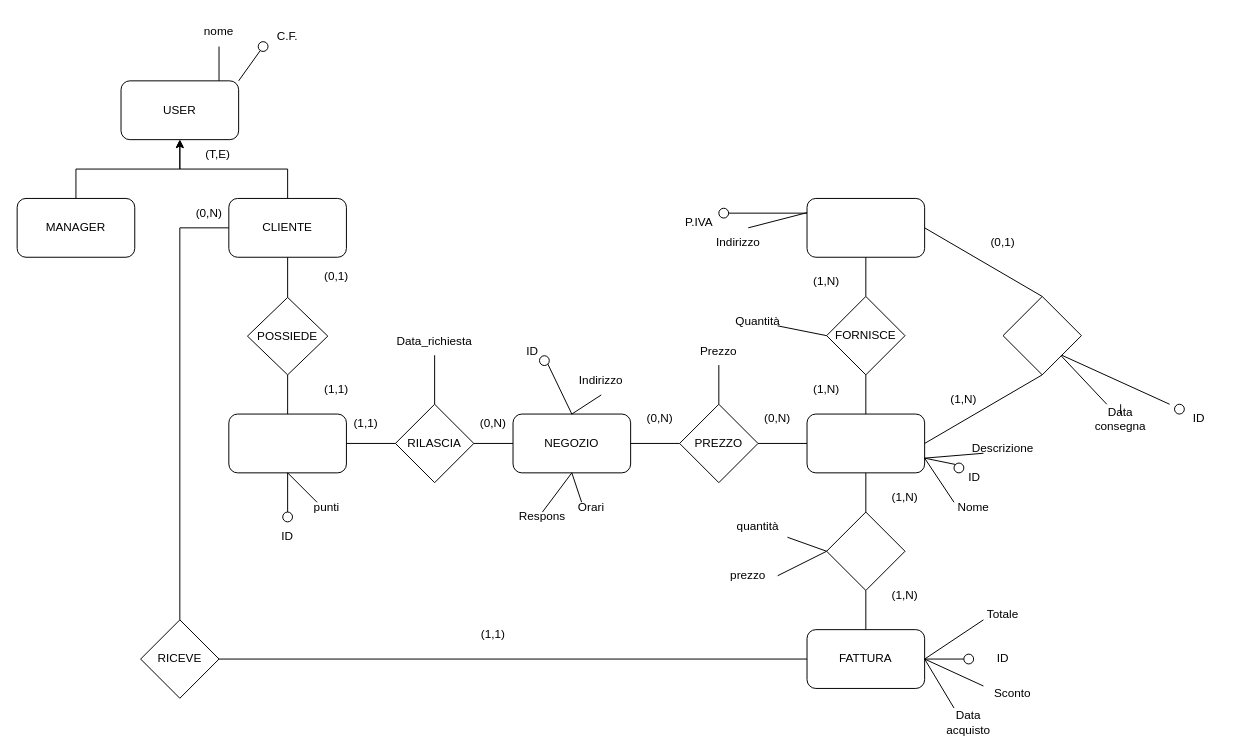
The diagram is 1246 pixels wide and 754 high, and some of its shapes have lost their labels. The centre of each missing label's shape, as x and y in pixels:
"FORNITORI" goes at pixel 865 227.
"ORDINE" goes at pixel 1041 335.
"PRODOTTO" goes at pixel 865 443.
"RIGA FATTURA" goes at pixel 865 550.
"TESSERA_FEDELTA'" goes at pixel 287 443.
